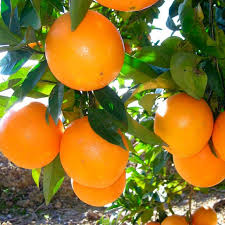orange: (42, 12, 125, 88), (58, 113, 130, 184), (148, 84, 213, 156), (1, 100, 61, 169)
